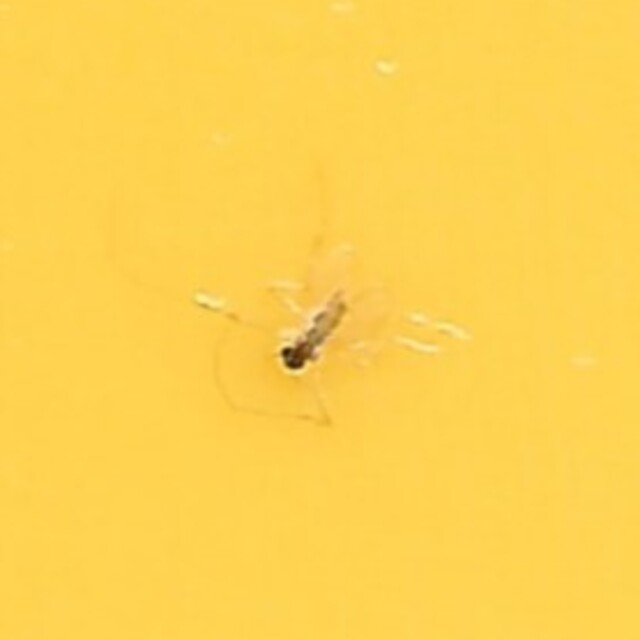Nematocera: (230, 234, 410, 406)
